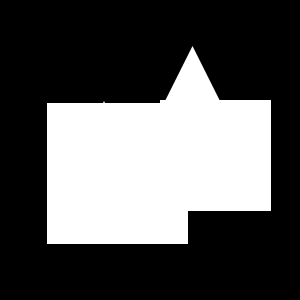circle: (47, 103, 188, 244), (160, 100, 271, 211)
triangle: (136, 46, 249, 159), (70, 101, 138, 169)
